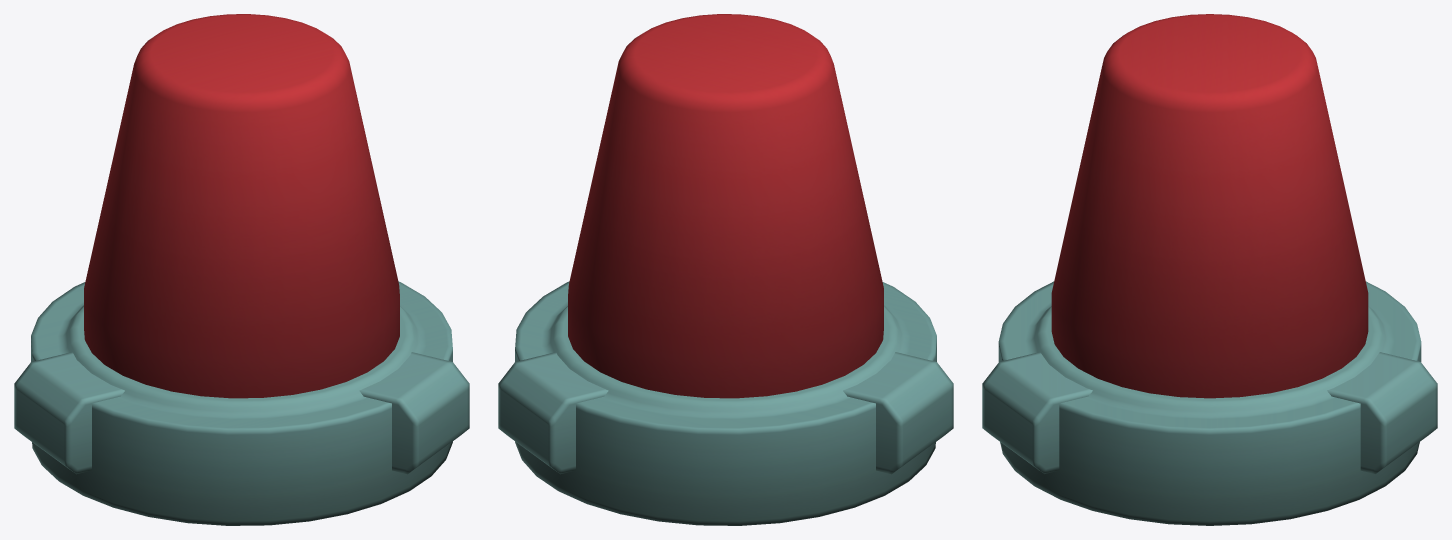
Rendered from SM_alarm_light.fbx.
3 renders of one model, left to right at view 1: azimuth 30°, elevation 25°; view 2: azimuth 150°, elevation 25°; view 3: azimuth 270°, elevation 25°, orthographic.
Parts seen in each view (by area): view 1: light_cover, SM_alarm_light, Plane; view 2: light_cover, SM_alarm_light, Plane; view 3: light_cover, SM_alarm_light, Plane.
Boxes of the visible parts, x1,y1,x2,y2 form: light_cover: (84, 14, 399, 398); SM_alarm_light: (31, 281, 452, 525); Plane: (14, 352, 469, 474); light_cover: (568, 14, 883, 398); SM_alarm_light: (515, 281, 936, 525); Plane: (498, 352, 953, 474); light_cover: (1051, 14, 1368, 398); SM_alarm_light: (998, 281, 1421, 525); Plane: (982, 352, 1437, 473).
Size of the model in its own units: 42 by 42 by 43.11.
